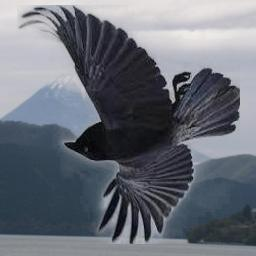Crow: (18, 6, 241, 245)
